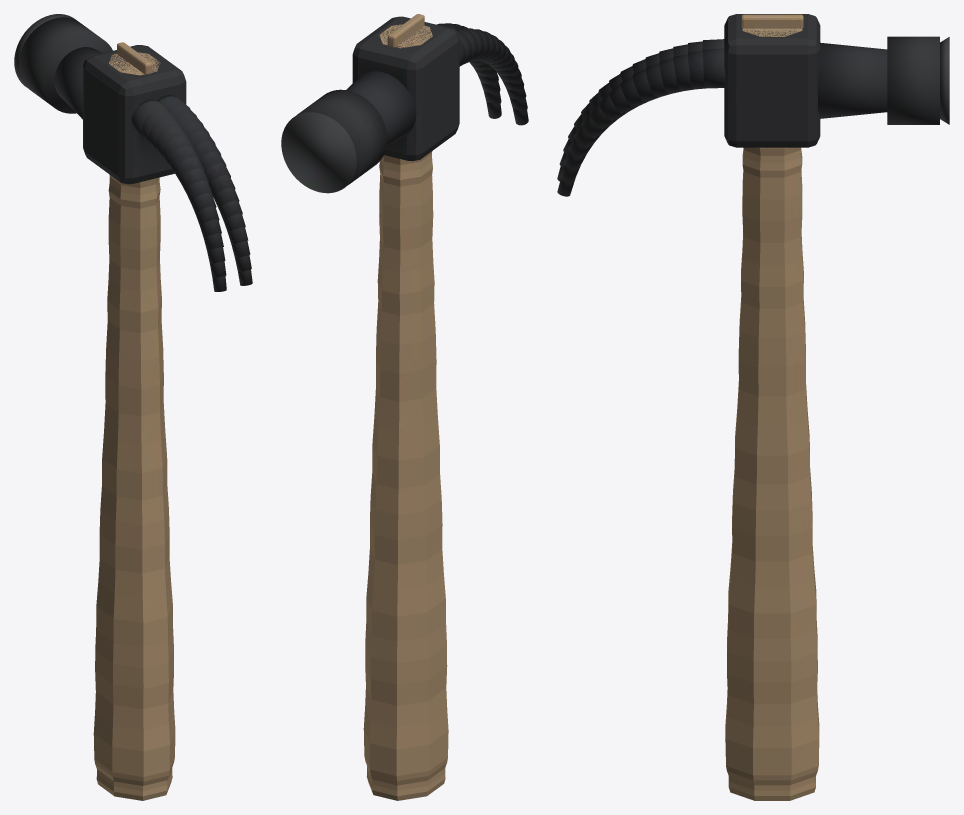
The model's file is tool_hammer.glb.
3 views of the same model, side by side, from view 1: azimuth 30°, elevation 25°; view 2: azimuth 150°, elevation 25°; view 3: azimuth 270°, elevation 25° (orthographic). The views are drawn at different scales.
Parts seen in each view (by area): view 1: hammer-haft, hammer-head; view 2: hammer-haft, hammer-head; view 3: hammer-haft, hammer-head.
Boxes of the visible parts, x1,y1,x2,y2 form: hammer-haft: [93, 52, 175, 800]; hammer-head: [14, 14, 252, 291]; hammer-haft: [363, 24, 448, 800]; hammer-head: [281, 14, 528, 193]; hammer-haft: [725, 28, 819, 800]; hammer-head: [557, 14, 949, 196].
Size of what is drawn, in the model's own units: 0.037 by 0.355 by 0.1638.
Materials: 1 (1 with a texture image).
